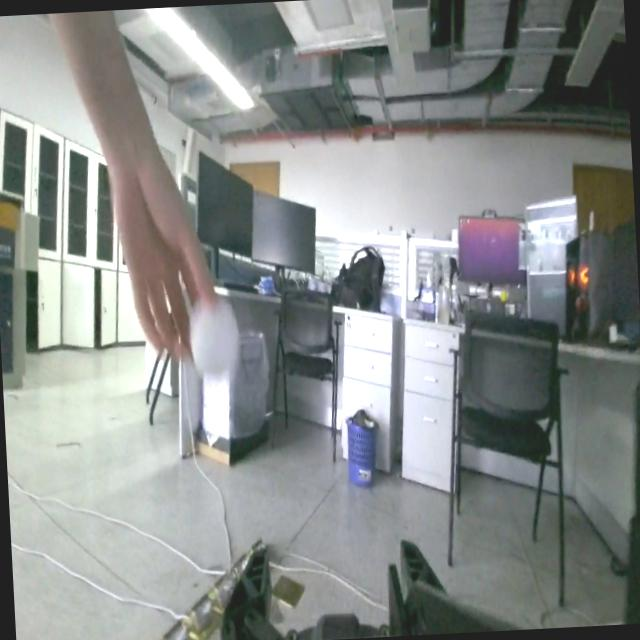ball1: (188, 296, 242, 386)
